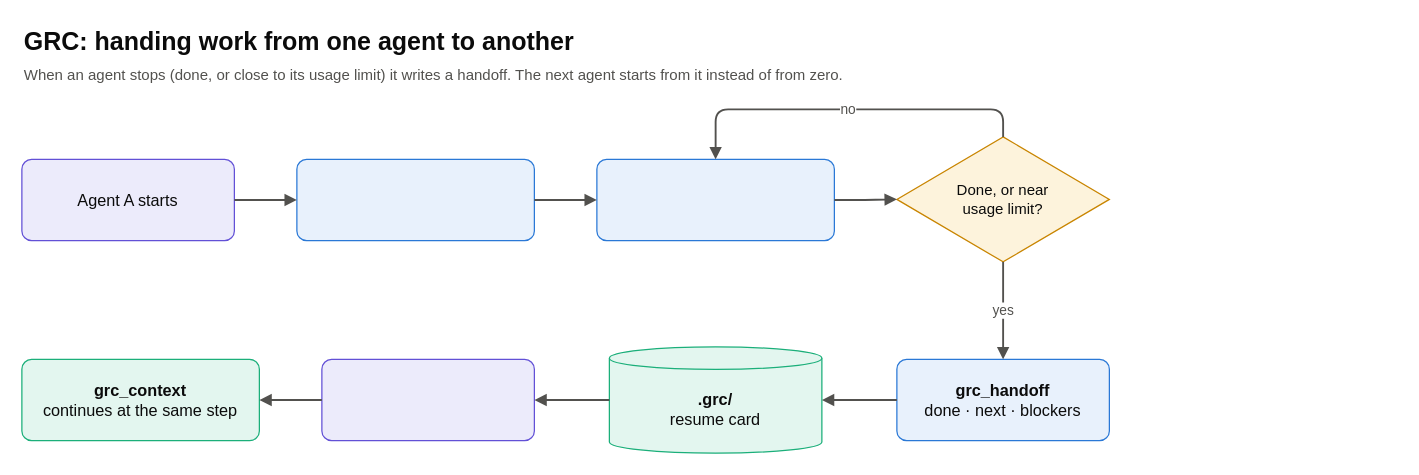
The diagram is 1419 pixels wide and 475 high, and some of its shapes have lost their labels. The box of each missing label's shape, as (x1, y1, x2, y2) in pixels:
Agent B starts (any vendor): (321, 358, 534, 441)
grc_context resume card + open tasks: (296, 158, 534, 241)
Works on a task grc_update_task as it goes: (596, 158, 834, 241)
